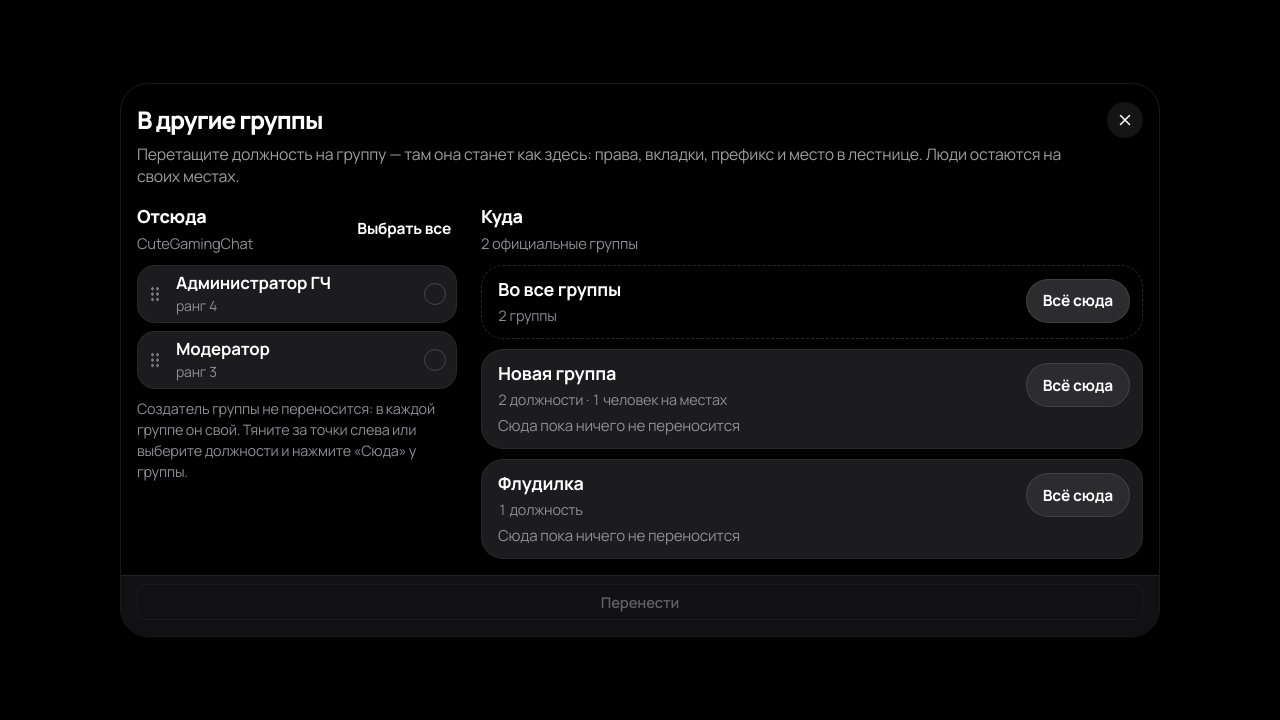
PositionPush › sends everything to every group from the shared drop zone
This screenshot has width=1280, height=720.
Expected: the button with aria-label "Модератор, ранг 3" is shown, x1=137 y1=331 x2=457 y2=389
Step 1. Click the button "Всё сюда" in the row of "Во все группы" → (1078, 301), box x1=1026 y1=279 x2=1130 y2=323
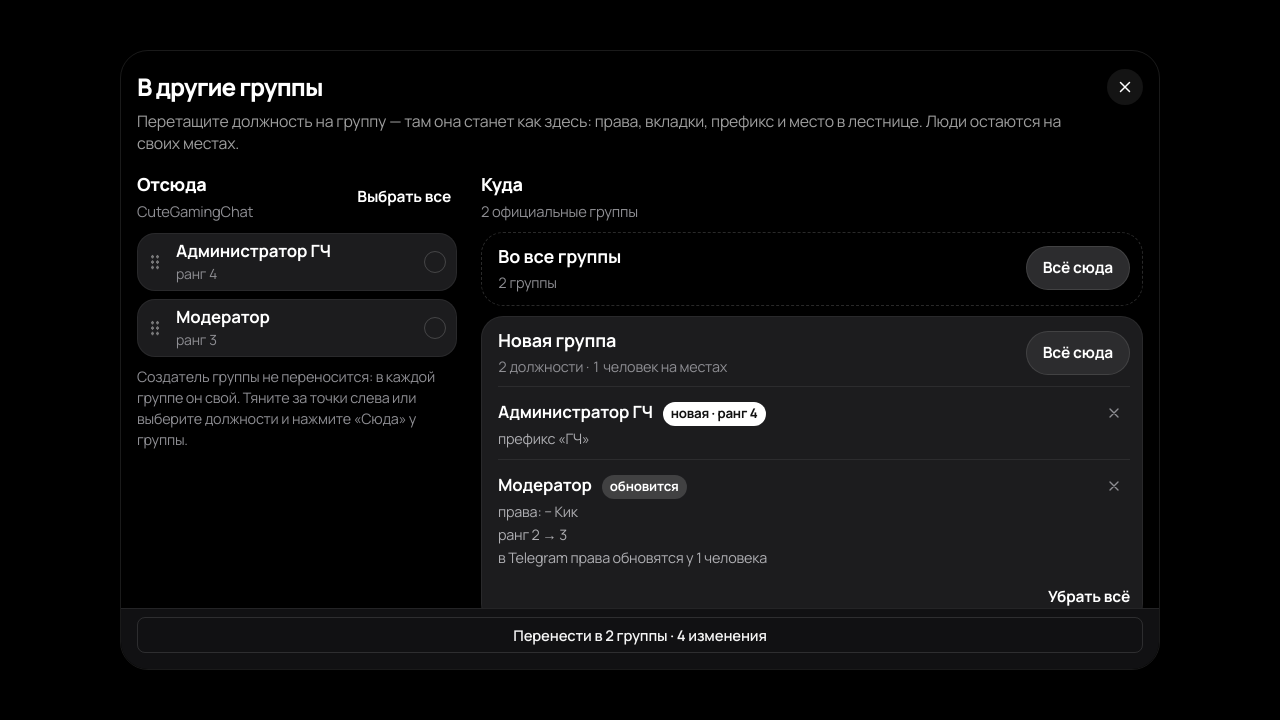
Result: the text "новая · ранг 4" is shown at x1=663 y1=402 x2=766 y2=426
Result: the button "Перенести в 2 группы · 4 изменения" is shown at x1=137 y1=617 x2=1143 y2=653
